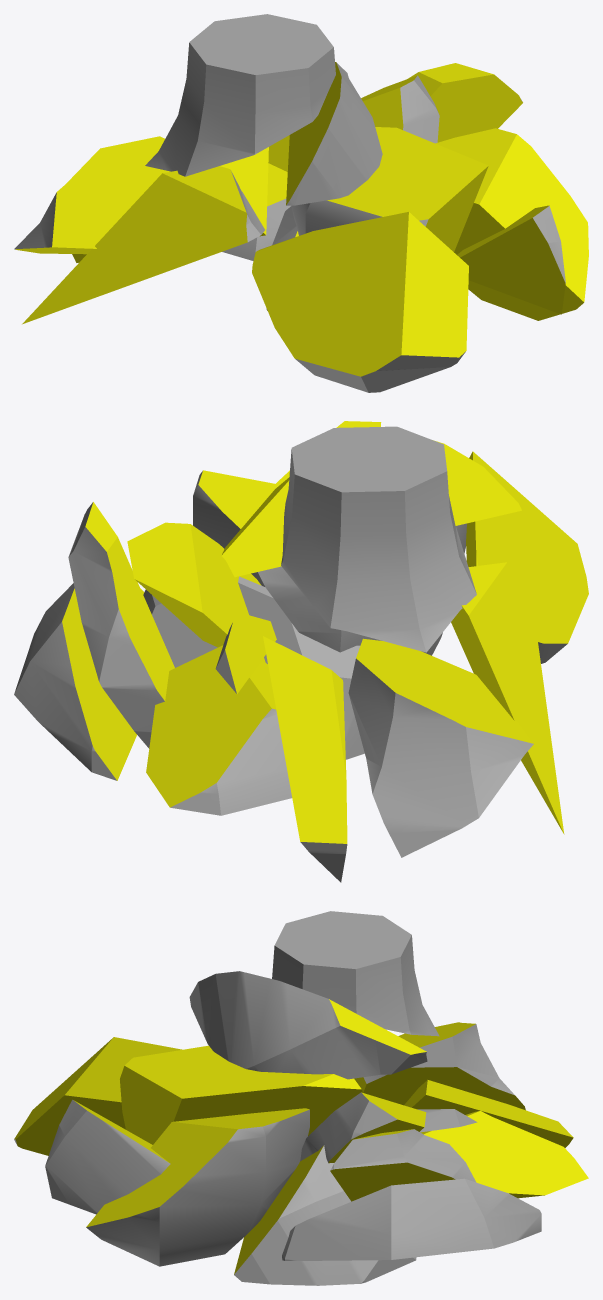
The model's file is Boys_Shatteredvase_01_0201.fbx.
3 views of the same model, one above another, from view 1: azimuth 30°, elevation 25°; view 2: azimuth 150°, elevation 25°; view 3: azimuth 270°, elevation 25° (orthographic). The views are drawn at different scales.
Visible parts, largest first — view 1: solidShatter4; view 2: solidShatter4; view 3: solidShatter4.
Boxes of the visible parts, x1,y1,x2,y2 form: solidShatter4: [14, 14, 588, 392]; solidShatter4: [14, 421, 588, 882]; solidShatter4: [14, 911, 588, 1285].
Bounding box in the file's own units: 43.73 × 24.25 × 47.61.
